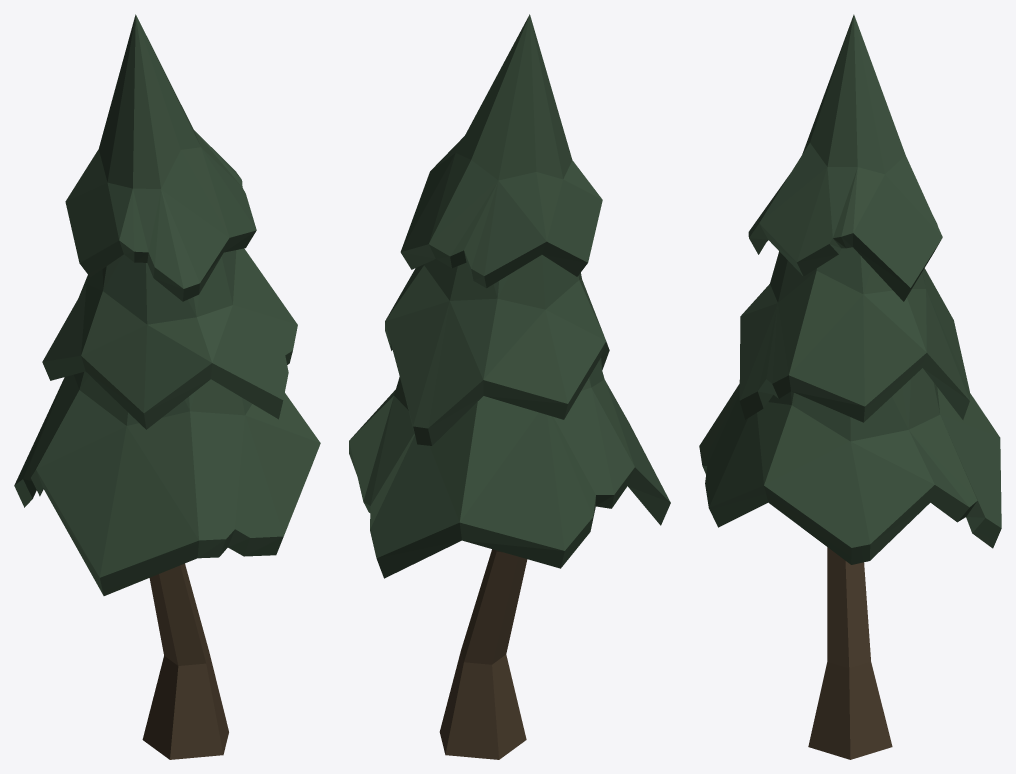
The model's file is tree.glb.
The picture shows the model from 3 angles, left to right: view 1: azimuth 30°, elevation 25°; view 2: azimuth 150°, elevation 25°; view 3: azimuth 270°, elevation 25°; orthographic projection. The views are drawn at different scales.
Visible parts, largest first — view 1: SM_Env_TreePine_01; view 2: SM_Env_TreePine_01; view 3: SM_Env_TreePine_01.
Boxes of the visible parts, x1=… form: SM_Env_TreePine_01: x1=14, y1=14, x2=320, y2=759; SM_Env_TreePine_01: x1=349, y1=14, x2=670, y2=759; SM_Env_TreePine_01: x1=699, y1=14, x2=1001, y2=759.
Size of the model in its own units: 2.82 by 7.27 by 2.83.
Materials: 1 (1 with a texture image).
